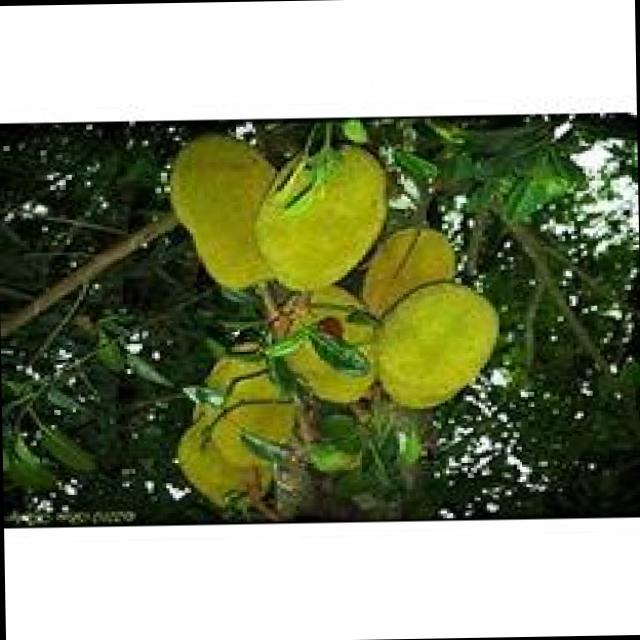Fruit: (148, 119, 408, 318), (353, 258, 516, 430)
